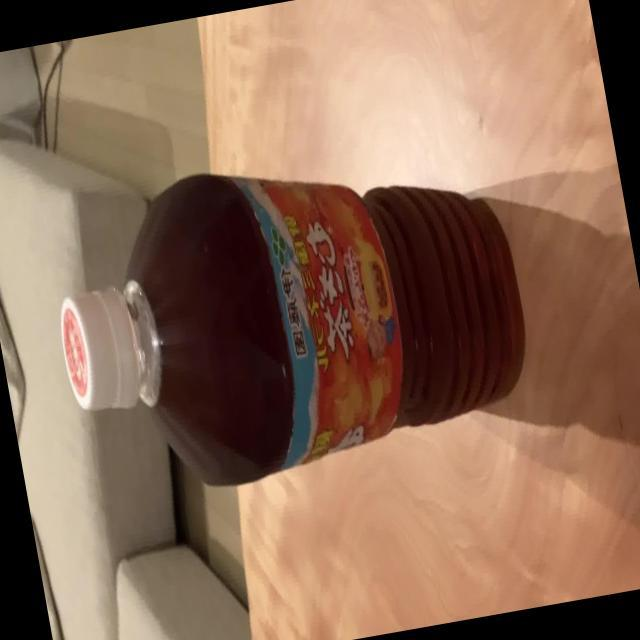good: (31, 118, 542, 513)
